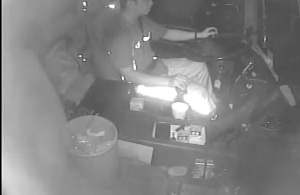paper: (152, 118, 206, 145)
